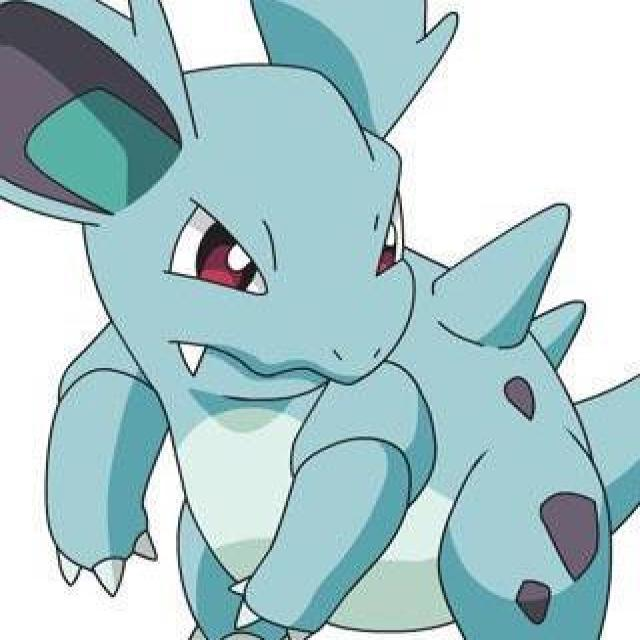Nidorina: (0, 0, 640, 637)
